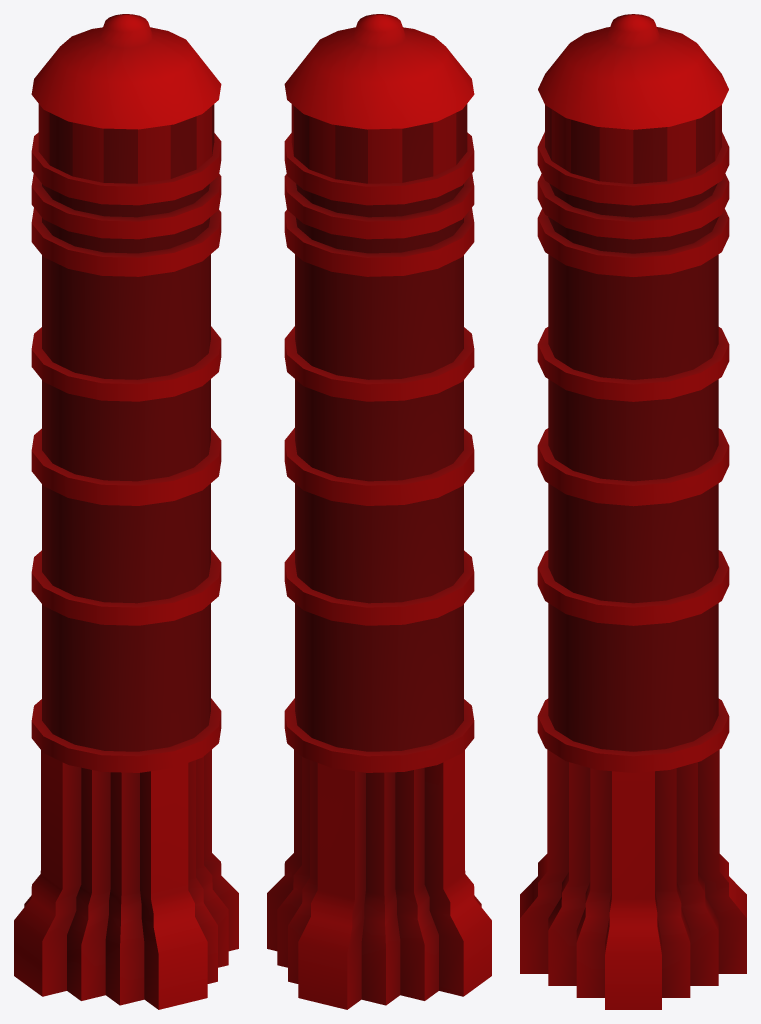
File: buildings-ruins-templeruins_v7.fbx
3 views of the same model, side by side, from view 1: azimuth 30°, elevation 25°; view 2: azimuth 150°, elevation 25°; view 3: azimuth 270°, elevation 25° (orthographic).
Visible parts, largest first — view 1: TempleRuins_v7; view 2: TempleRuins_v7; view 3: TempleRuins_v7.
Part boxes in pixels (x1,y1,x2,y2): TempleRuins_v7: [14, 14, 238, 1009]; TempleRuins_v7: [267, 14, 491, 1009]; TempleRuins_v7: [520, 14, 746, 1009].
Bounding box in the file's own units: 3.66 × 16.85 × 3.66.
